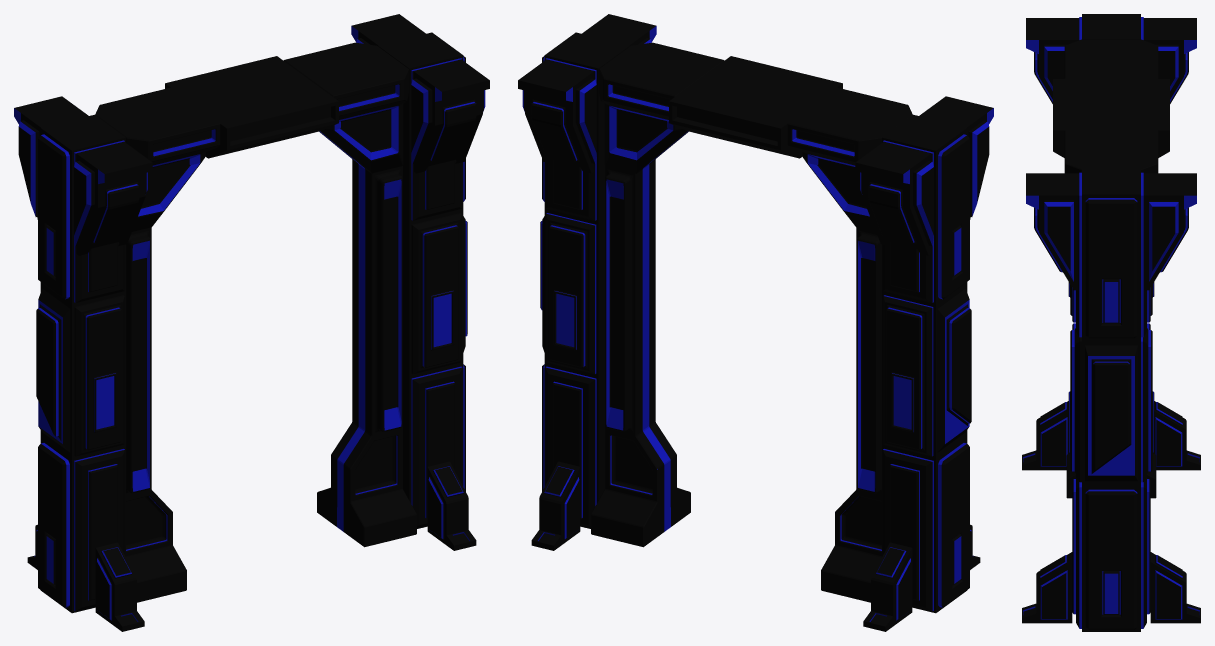
The model's file is Door.fbx.
The picture shows the model from 3 angles, left to right: view 1: azimuth 30°, elevation 25°; view 2: azimuth 150°, elevation 25°; view 3: azimuth 270°, elevation 25°; orthographic projection. The views are drawn at different scales.
Parts seen in each view (by area): view 1: Cube.001; view 2: Cube.001; view 3: Cube.001.
Part boxes in pixels (x1,y1,x2,y2): Cube.001: [14, 14, 489, 631]; Cube.001: [518, 14, 993, 631]; Cube.001: [1022, 14, 1200, 631].
Bounding box in the file's own units: 1981 × 2112 × 783.
